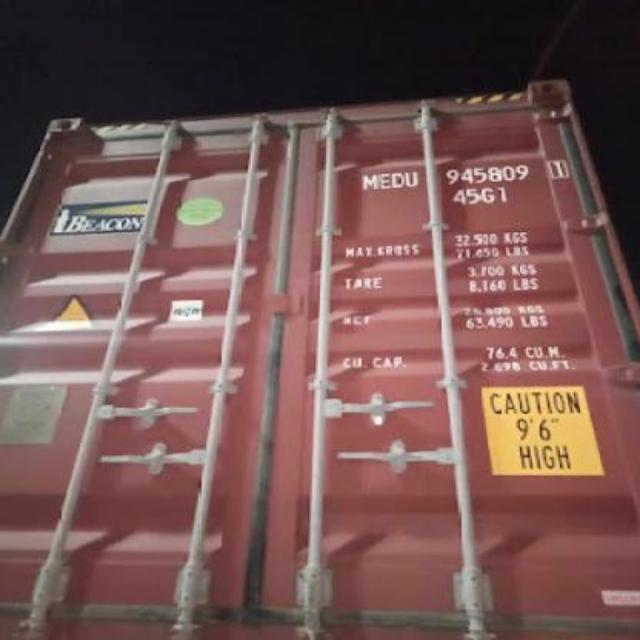0: (500, 159, 516, 183)
1: (544, 156, 568, 180)
4: (458, 164, 474, 186)
5: (474, 157, 486, 187)
8: (486, 162, 499, 182)
9: (512, 157, 526, 183), (442, 163, 456, 187)
D: (391, 166, 404, 198)
E: (376, 167, 389, 197)
M: (358, 169, 376, 195)
U: (404, 166, 420, 190)
